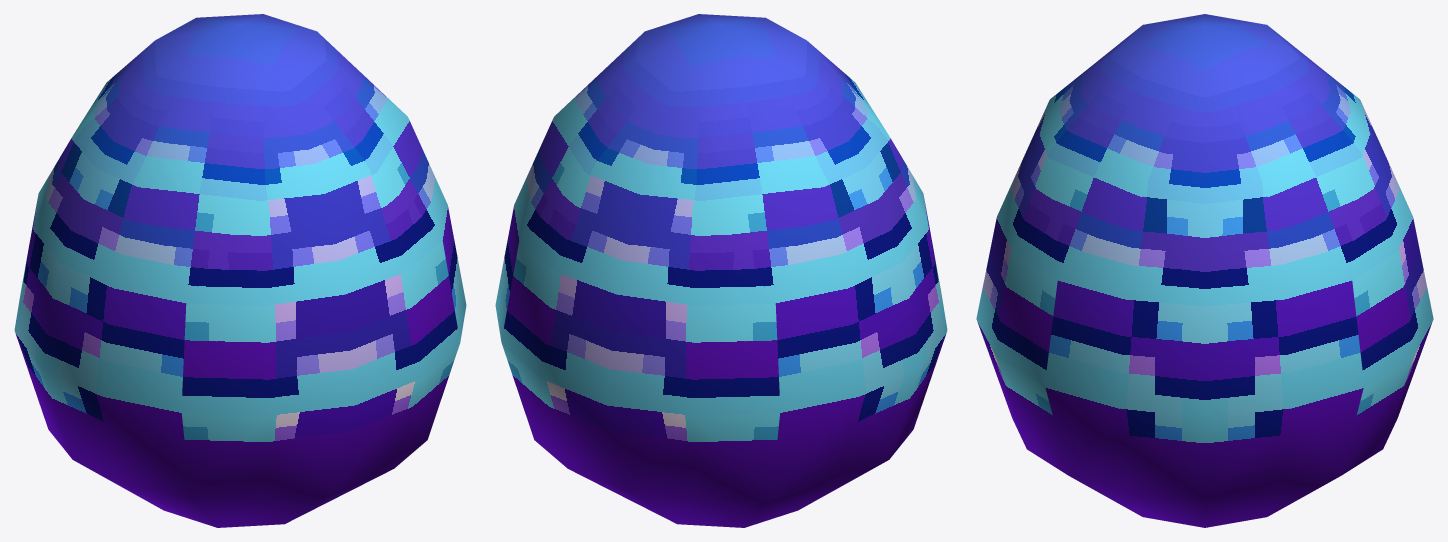
File: fg_egg2.dae
The picture shows the model from 3 angles, left to right: view 1: azimuth 30°, elevation 25°; view 2: azimuth 150°, elevation 25°; view 3: azimuth 270°, elevation 25°; orthographic projection.
Parts seen in each view (by area): view 1: fg_egg2; view 2: fg_egg2; view 3: fg_egg2.
Boxes of the visible parts, bbox=[...] form: fg_egg2: bbox=[14, 14, 466, 527]; fg_egg2: bbox=[495, 14, 947, 527]; fg_egg2: bbox=[976, 14, 1433, 527].
Size of the model in its own units: 11.94 by 13.4 by 11.94.
Materials: 1 (1 with a texture image).
